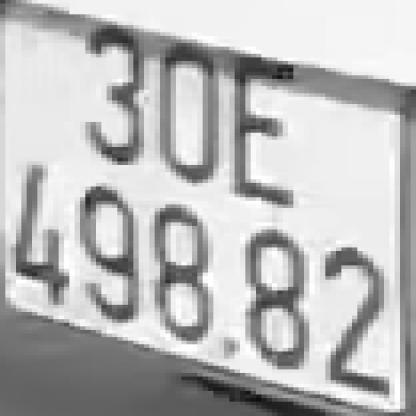0: (149, 46, 224, 186)
2: (320, 248, 389, 394)
3: (86, 29, 150, 165)
4: (5, 165, 70, 298)
8: (240, 223, 304, 370), (155, 204, 208, 341)
9: (80, 187, 144, 319)
E: (229, 54, 299, 208)
